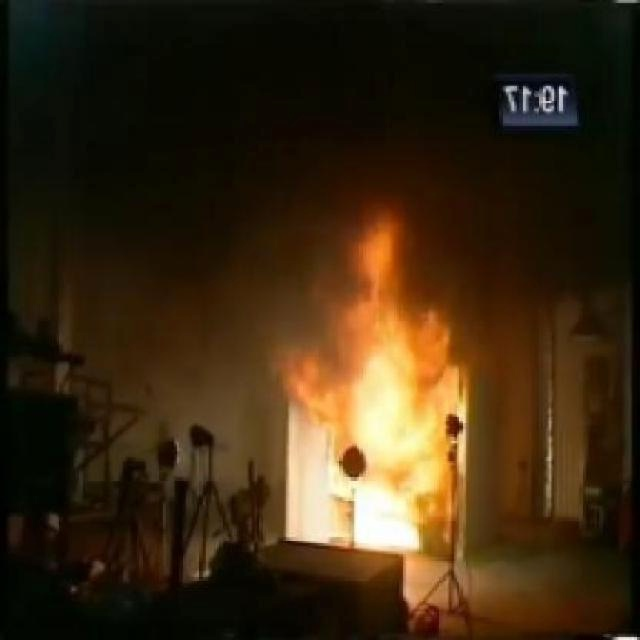fire: (297, 214, 467, 499)
smoke: (0, 4, 640, 267)
